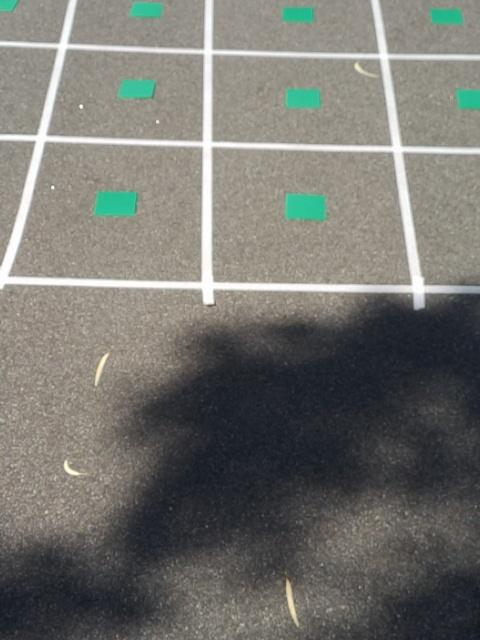weed: (92, 188, 141, 220), (283, 190, 327, 224), (116, 77, 157, 100), (286, 86, 320, 110), (281, 4, 317, 24), (429, 7, 463, 27), (456, 84, 480, 111), (128, 1, 164, 18), (0, 0, 18, 14)
